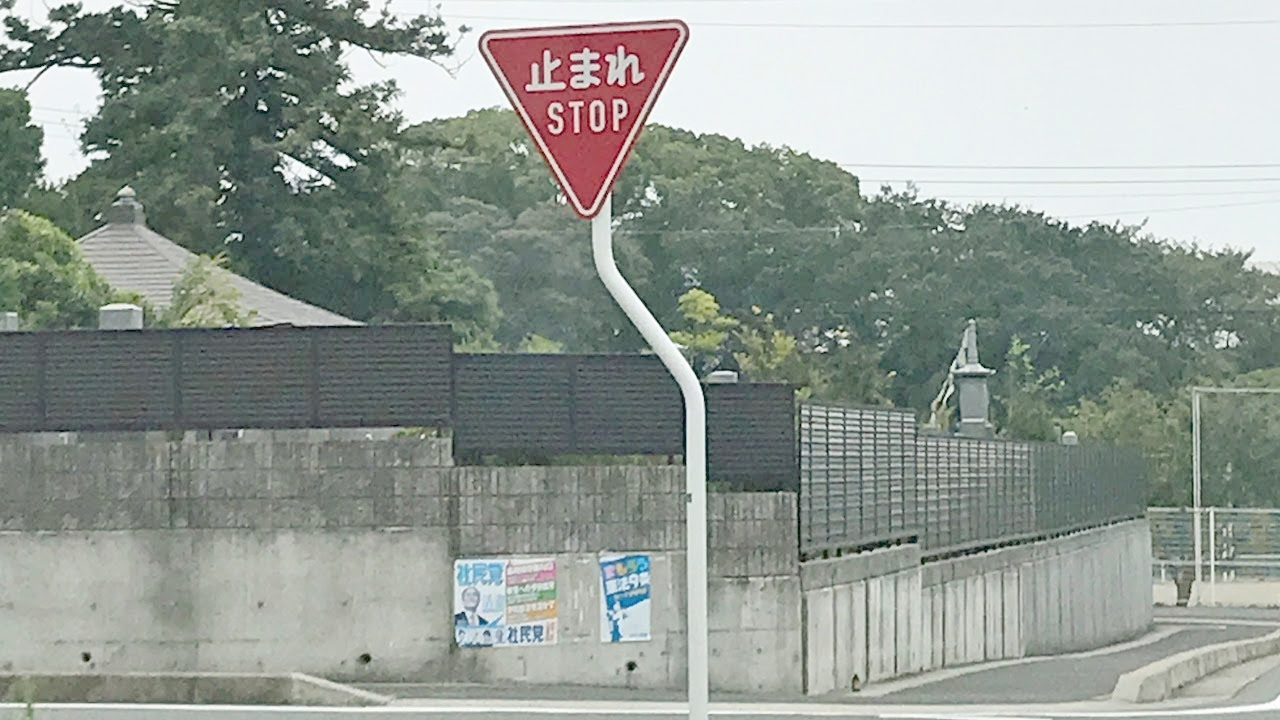Regulatory_sign_triangle: (465, 21, 692, 227)
